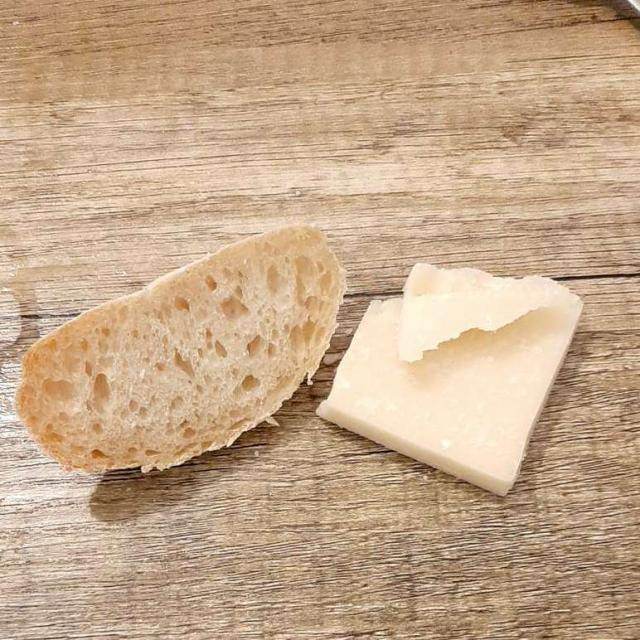bread-white: (20, 231, 334, 473)
hard-cheese: (325, 267, 574, 495)
